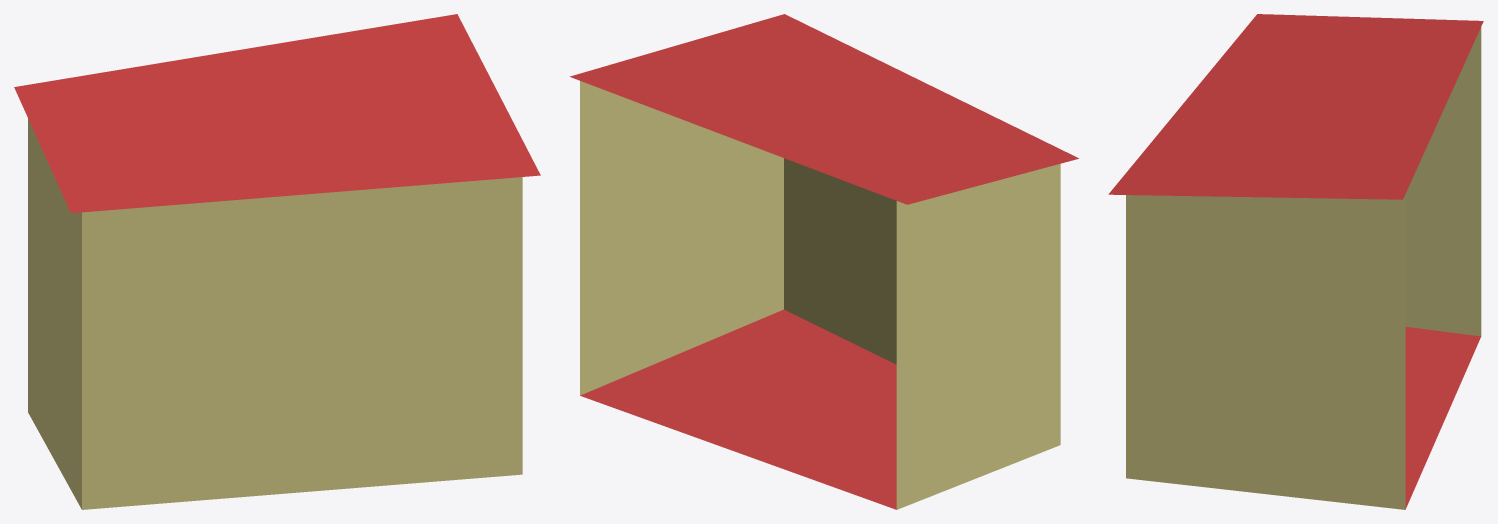
3 renders of one model, left to right at view 1: azimuth 30°, elevation 25°; view 2: azimuth 150°, elevation 25°; view 3: azimuth 270°, elevation 25°, orthographic. The views are drawn at different scales.
Bounding box in the file's own units: 9.17 × 6.8 × 6.31.
